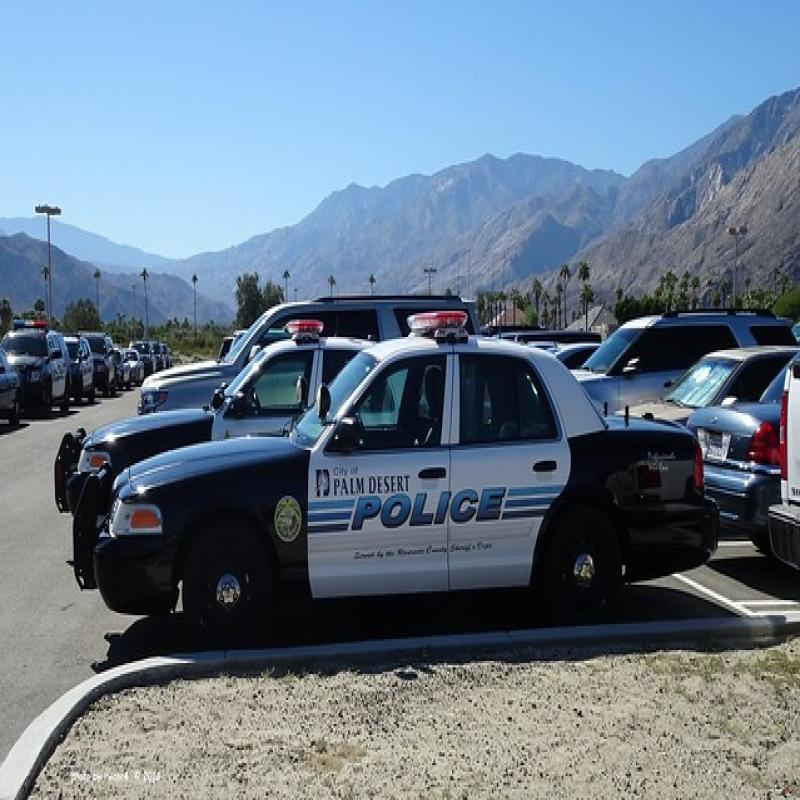AmbulanceSiren: (402, 300, 480, 358), (278, 294, 344, 345)
